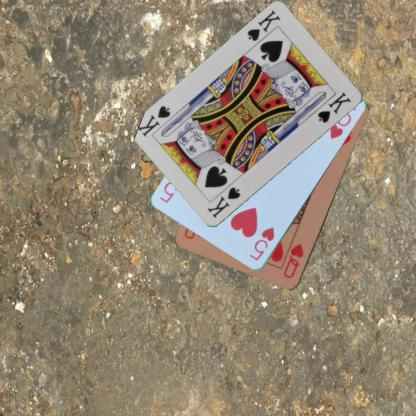5h: (247, 225, 276, 262)
Ks: (244, 7, 282, 44), (204, 184, 242, 220)
Qh: (281, 241, 305, 280)
